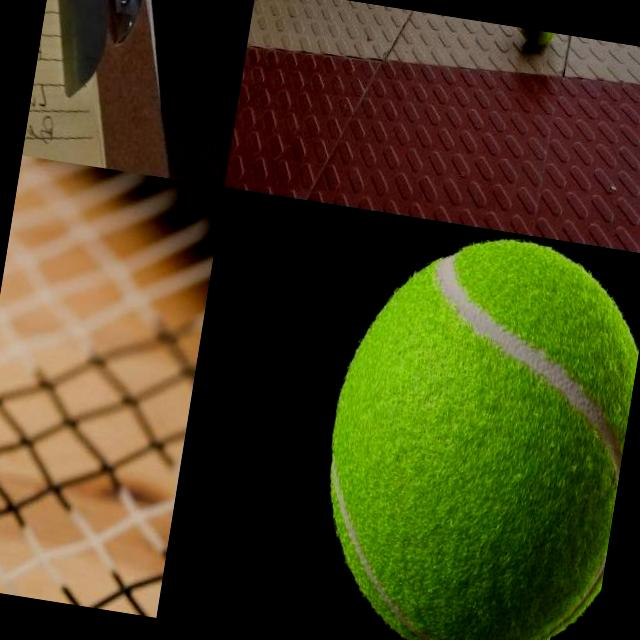Tennis Ball: (297, 215, 640, 640), (517, 28, 559, 46)
